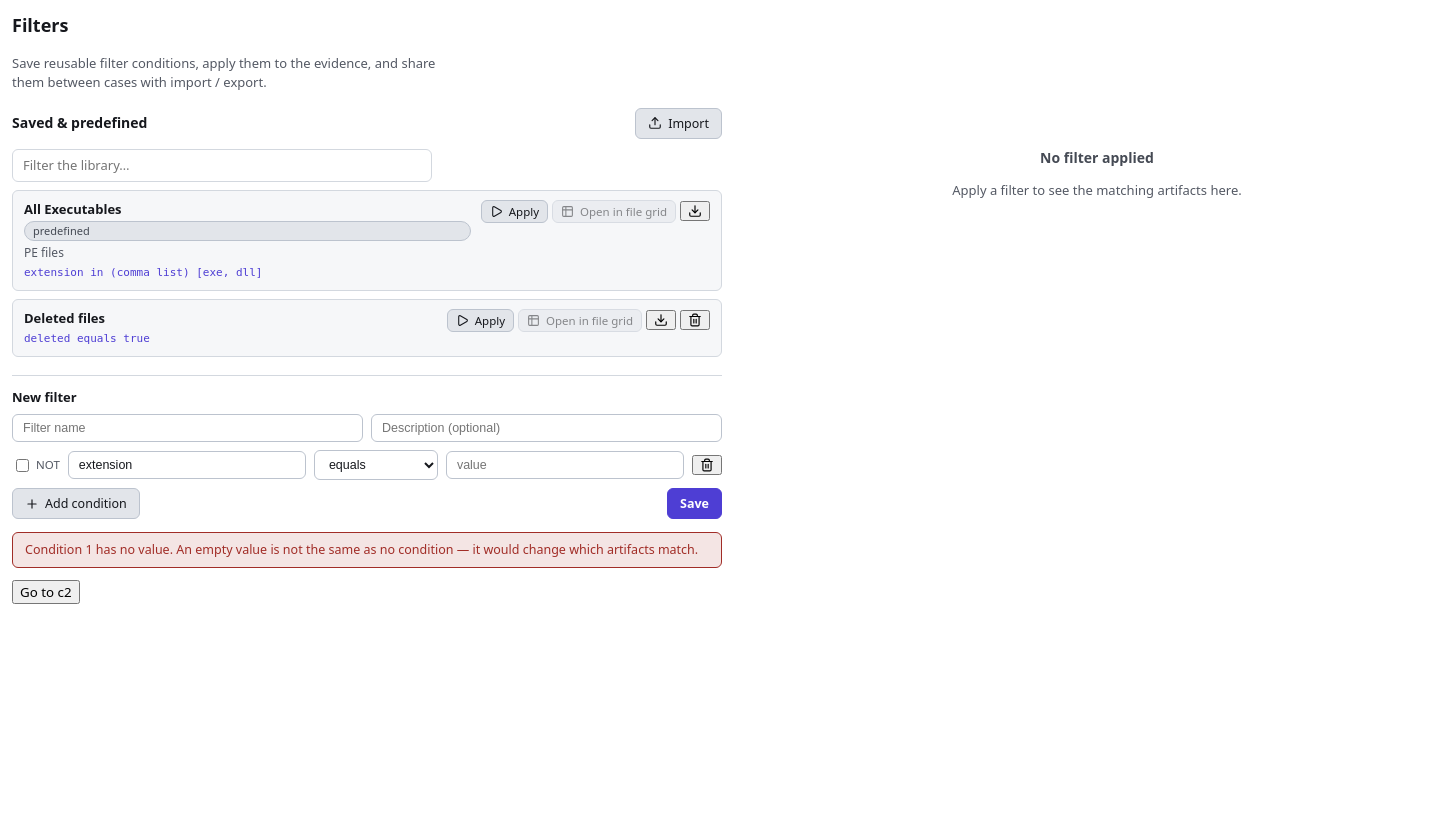
Test: FiltersPage › says when a completed scan could not read some of what it reached
expect the text "Deleted files" is shown: met, box [24, 309, 105, 327]
Click the button "Apply" in the row of "Deleted files" at {"x": 480, "y": 320}, box [447, 309, 514, 332]
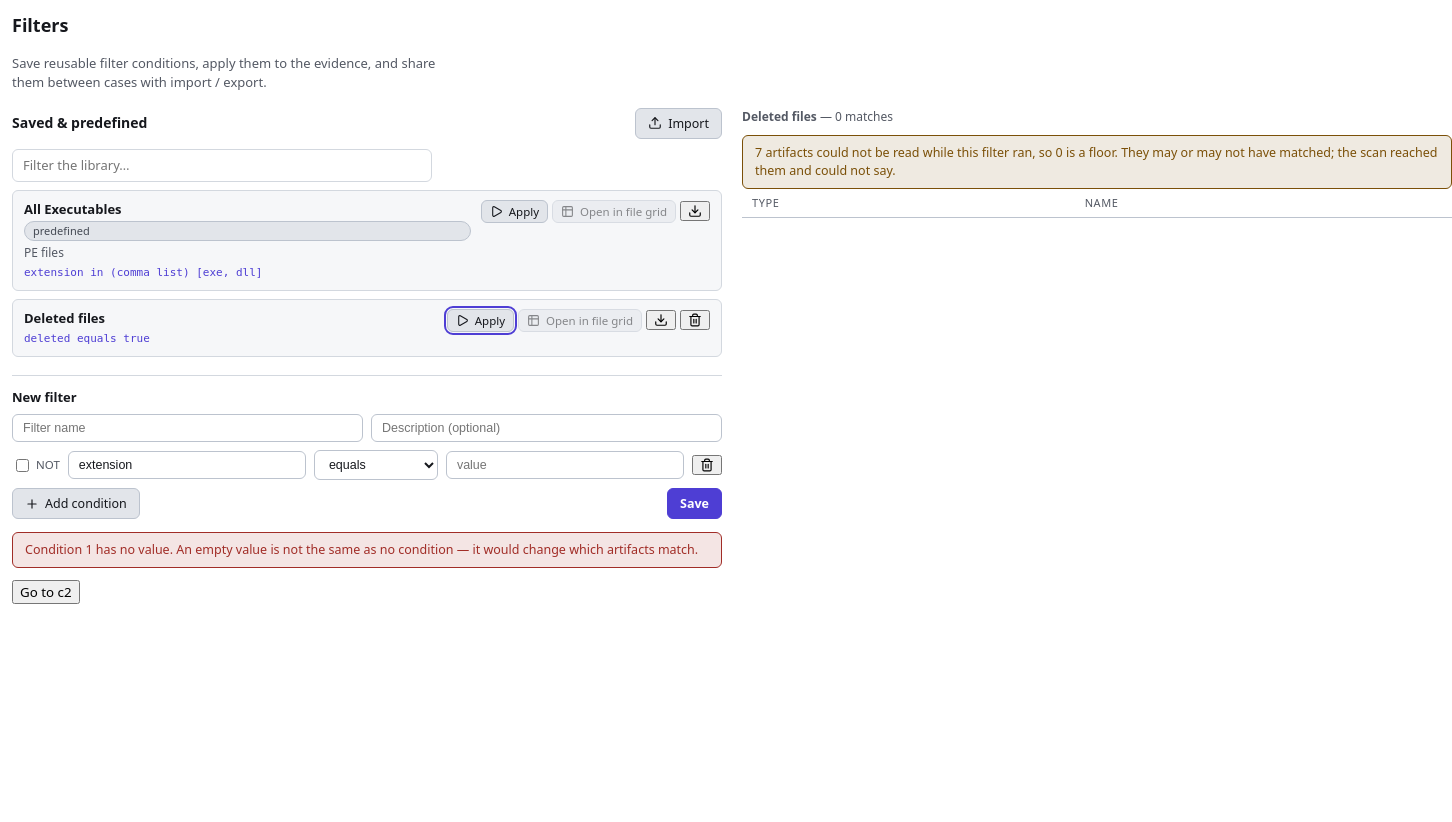
expect the text with test id "flt-scan-undecodable" shows "7 artifacts could not be read": met, box [742, 135, 1451, 190]
